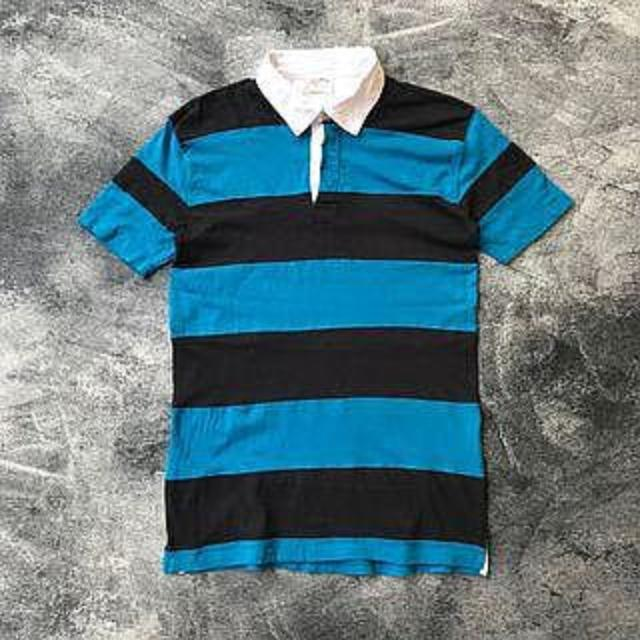T_SHIRT: (73, 43, 589, 582)
